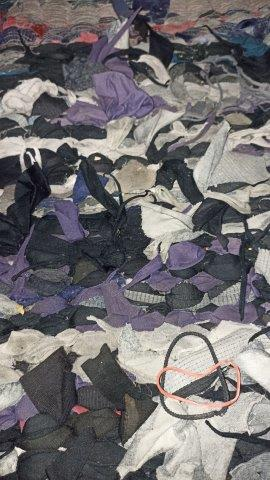karet: (157, 331, 241, 420)
